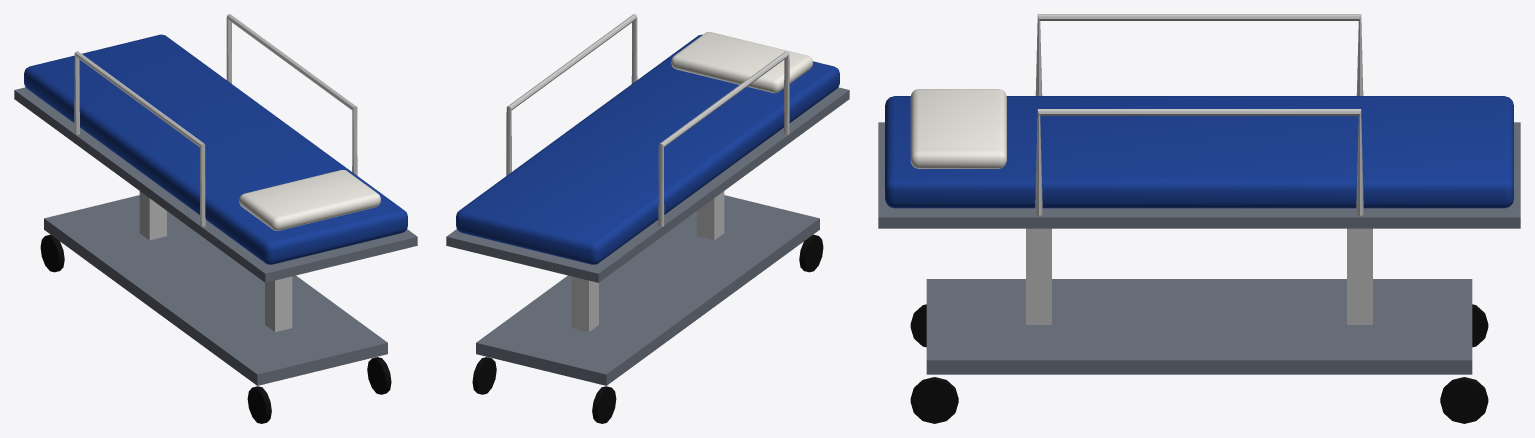
The model's file is hospital.bed.trolley.glb.
3 views of the same model, side by side, from view 1: azimuth 30°, elevation 25°; view 2: azimuth 150°, elevation 25°; view 3: azimuth 270°, elevation 25° (orthographic). The views are drawn at different scales.
Parts seen in each view (by area): view 1: soft__plastic_blue, frame__steel_painted, soft__fabric_white, main__steel_stainless, frame__steel_stainless, frame__rubber; view 2: soft__plastic_blue, frame__steel_painted, soft__fabric_white, main__steel_stainless, frame__steel_stainless, frame__rubber; view 3: frame__steel_painted, soft__plastic_blue, soft__fabric_white, main__steel_stainless, frame__steel_stainless, frame__rubber.
Part boxes in pixels (<box>): soft__plastic_blue: <box>24,34,407,264</box>; frame__steel_painted: <box>14,87,417,385</box>; soft__fabric_white: <box>239,170,380,230</box>; main__steel_stainless: <box>74,14,357,226</box>; frame__steel_stainless: <box>139,191,292,332</box>; frame__rubber: <box>40,234,391,423</box>; soft__plastic_blue: <box>456,34,839,264</box>; frame__steel_painted: <box>446,87,849,385</box>; soft__fabric_white: <box>671,32,812,93</box>; main__steel_stainless: <box>506,14,789,226</box>; frame__steel_stainless: <box>571,191,724,332</box>; frame__rubber: <box>472,234,823,423</box>; frame__steel_painted: <box>878,122,1520,374</box>; soft__plastic_blue: <box>885,96,1513,208</box>; soft__fabric_white: <box>910,89,1006,168</box>; main__steel_stainless: <box>1035,14,1363,215</box>; frame__steel_stainless: <box>1026,228,1372,324</box>; frame__rubber: <box>910,304,1488,423</box>.
Size of the model in its own units: 0.724 by 1.11 by 2.
